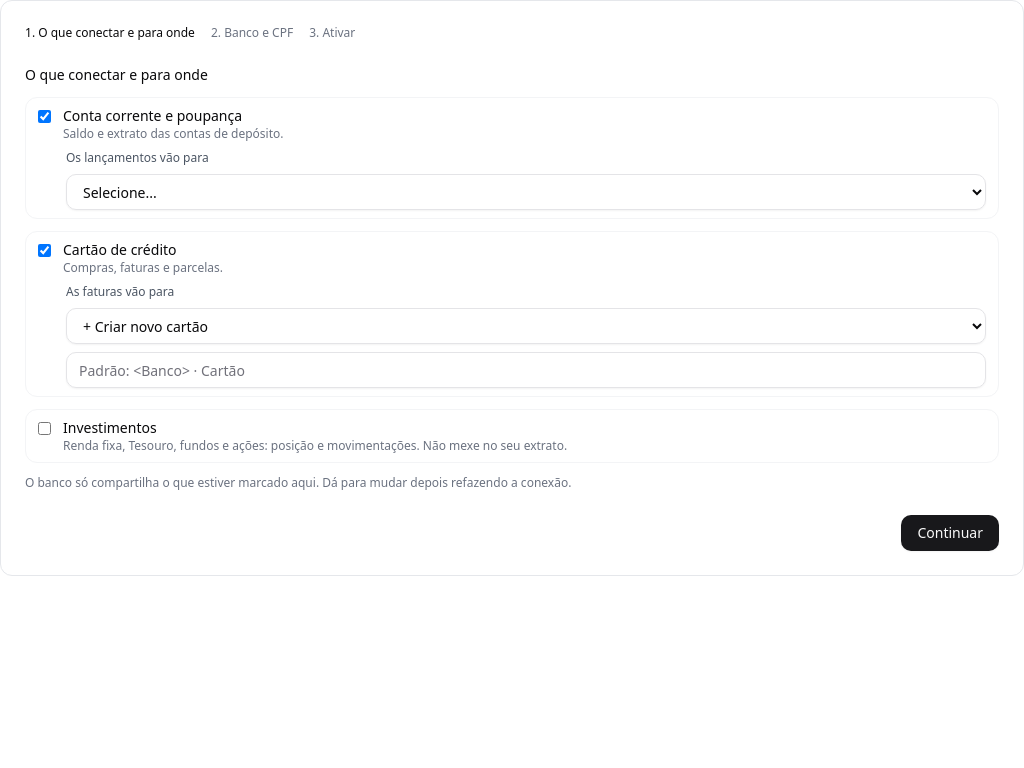
wizard da conexão guiada › passo 1: oferece só contas compatíveis e não avança sem destino
The width and height of the screenshot is (1024, 768).
Check: the dropdown labelled "As faturas vão para" shows "+ Criar novo cartão", box [66, 308, 986, 344]
Check: the checkbox labelled "Investimentos" is not checked, box [38, 422, 51, 435]
Click the button "Continuar": (950, 533) [901, 515, 999, 551]
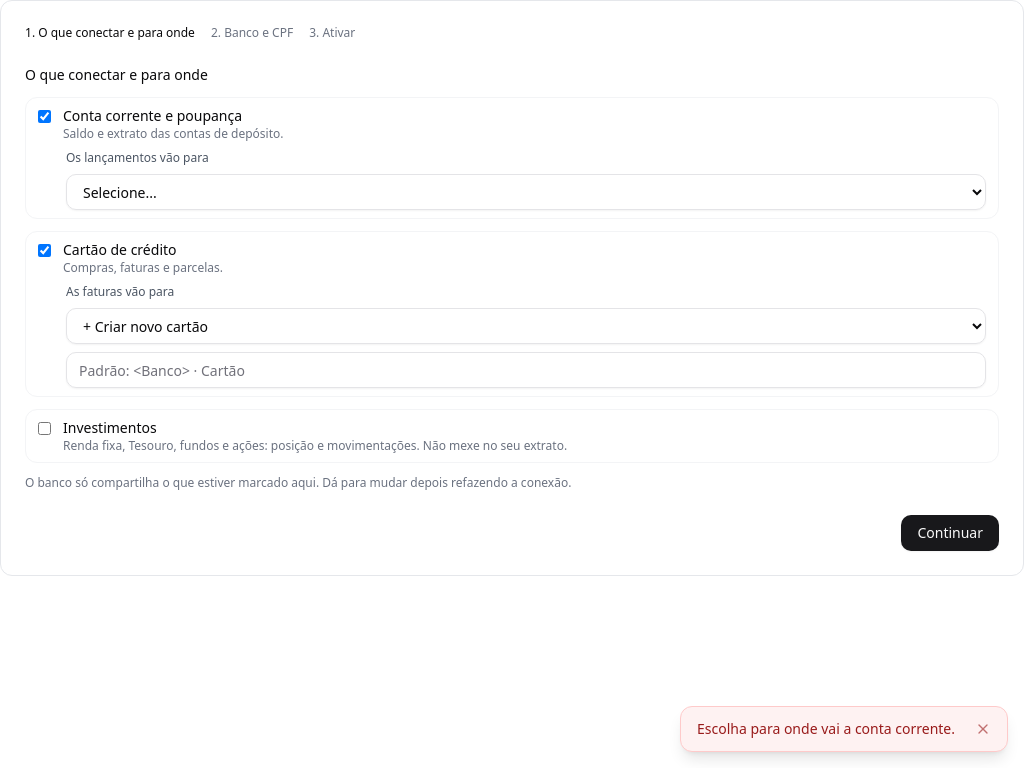
Check: the text "Escolha para onde vai a conta corrente." is shown, box [697, 719, 955, 739]
